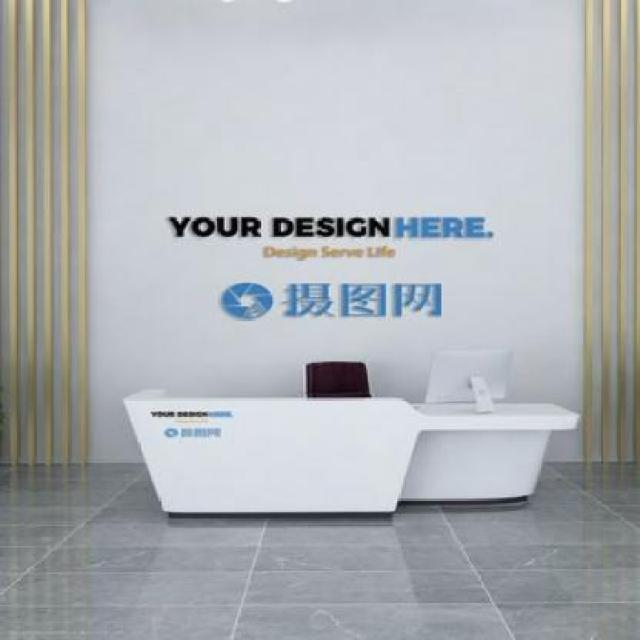frontdesk: (111, 378, 590, 531)
